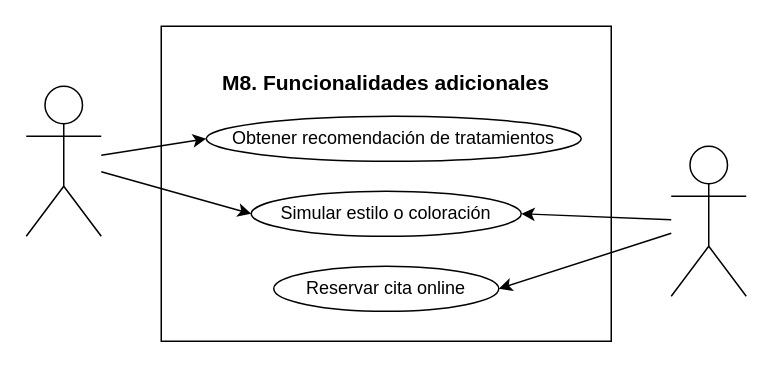
The diagram is 782 pixels wide and 368 high, and some of its shapes have lost their labels. The box of each missing label's shape, as (x1, y1, x2, y2) in pixels:
Cliente: (25, 85, 101, 236)
ClienteFinal: (670, 145, 746, 296)
